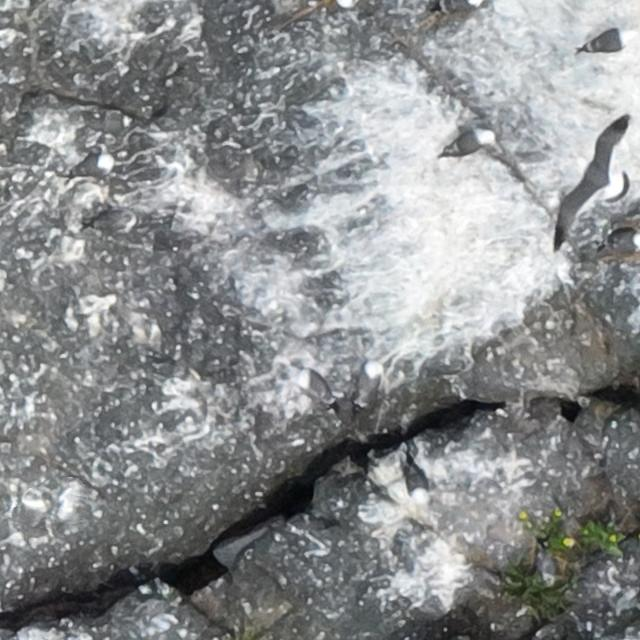F: (552, 121, 624, 235)
umineko: (69, 151, 117, 185), (293, 371, 336, 408), (358, 360, 383, 409), (450, 129, 490, 153), (589, 32, 627, 52), (406, 467, 426, 500), (613, 231, 640, 250)
